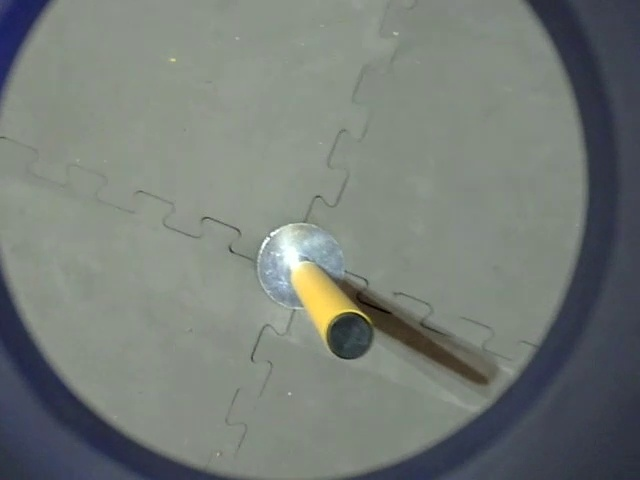tip: (315, 290, 382, 365)
